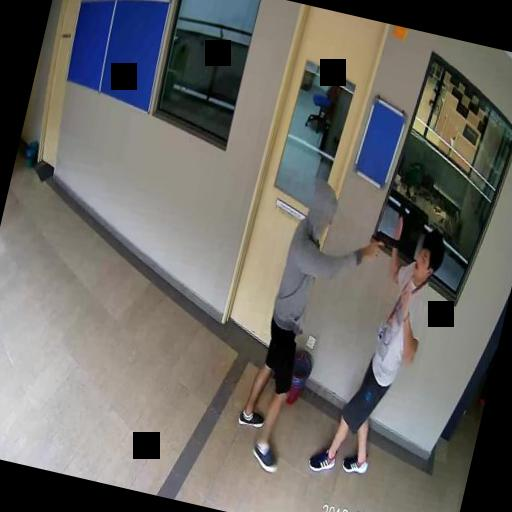Handgun: (369, 228, 400, 261)
